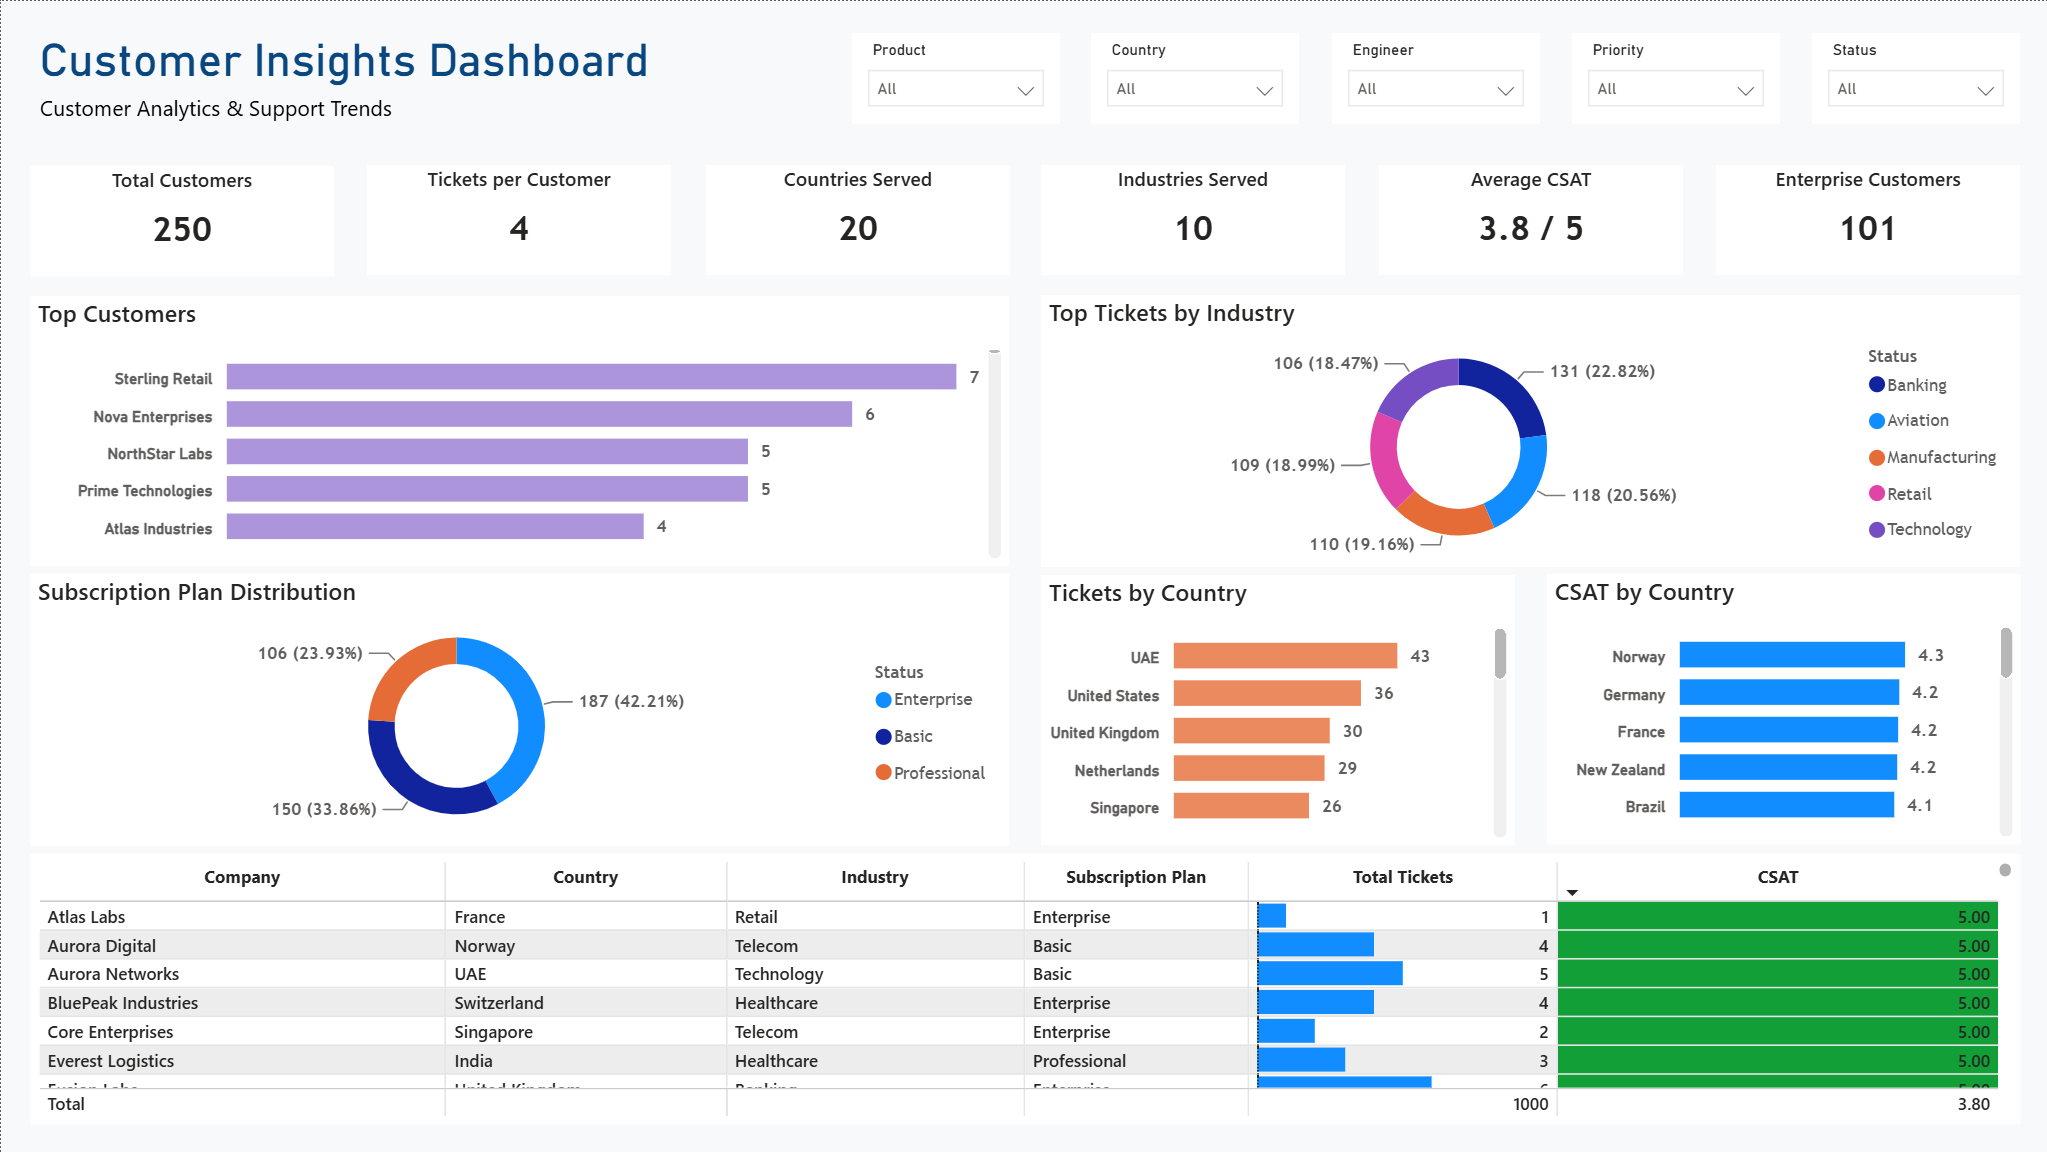

The dashboard page shown, as its layout file describes it:
{"tool":"powerbi","page":{"name":"Customer Insights Dashboard","canvas":[1280,720],"ordinal":2},"visuals":[{"type":"textbox","title":"Customer Insights Dashboard","box":[19.3,20,452.7,61.3],"z":0},{"type":"cardVisual","title":"Total Customers","fields":{"Data":["Measures (2).Total Customers"]},"box":[18,102.8,190,69],"z":1000},{"type":"cardVisual","title":"Tickets per Customer","fields":{"Data":["Measures (2).Tickets per Customer"]},"box":[229,102.5,190.1,69.3],"z":2000},{"type":"cardVisual","title":"Countries Served","fields":{"Data":["Measures (2).Countries Server"]},"box":[440.7,102.5,190.1,69.3],"z":3000},{"type":"cardVisual","title":"Industries Served","fields":{"Data":["Measures (2).Industries Served"]},"box":[650,102.5,190,69.3],"z":4000},{"type":"cardVisual","title":"Average CSAT","fields":{"Data":["Measures (2).Customer Rating Display"]},"box":[861,102.5,190.1,69.3],"z":5000},{"type":"cardVisual","title":"Enterprise Customers","fields":{"Data":["Measures (2).Enterprise Customers"]},"box":[1072,102.5,190.1,69.3],"z":6000},{"type":"slicer","fields":{"Values":["supportdesk_db tickets.status"]},"box":[1132,20,130,57.3],"z":7000},{"type":"slicer","fields":{"Values":["supportdesk_db tickets.priority"]},"box":[982,20,130,57.3],"z":8000},{"type":"slicer","fields":{"Values":["supportdesk_db engineers.engineer_name"]},"box":[832,20,130,57.3],"z":9000},{"type":"slicer","fields":{"Values":["supportdesk_db customers.country"]},"box":[681,20,130,57.3],"z":10000},{"type":"slicer","fields":{"Values":["supportdesk_db products.product_name"]},"box":[532,20,130,57.3],"z":11000},{"type":"clusteredBarChart","title":"Top Customers","fields":{"Category":["supportdesk_db customers.company_name"],"Y":["Measures (2).Total Tickets"]},"box":[18,184.1,612,169],"z":12000},{"type":"pieChart","title":"Top Tickets by Industry","fields":{"Category":["supportdesk_db customers.industry"],"Y":["Measures (2).Total Tickets"]},"box":[650.1,184,612,170],"z":13000},{"type":"tableEx","title":"Ticket Sources","fields":{"Values":["supportdesk_db customers.company_name","supportdesk_db customers.country","supportdesk_db customers.industry","supportdesk_db customers.subscription_plan","Measures (2).Total Tickets","Measures (2).Average Rating"]},"box":[17.9,533,1244.2,169.2],"z":14000},{"type":"barChart","title":"Tickets by Country","fields":{"Category":["supportdesk_db customers.country"],"Y":["Measures (2).Total Tickets"]},"box":[650.1,358.6,296,169.2],"z":15000},{"type":"barChart","title":"CSAT by Country","fields":{"Y":["Measures (2).Average Rating"],"Category":["supportdesk_db customers.country"]},"box":[966.2,358,296,169.2],"z":16000},{"type":"pieChart","title":"Subscription Plan Distribution","fields":{"Y":["Measures (2).Total Tickets"],"Category":["supportdesk_db customers.subscription_plan"]},"box":[18,358,612,170],"z":17000}]}

Visuals, with their boxes in screenshot pixels (x1, y1, x2, y2), scaled from the page's 1280x720 canvas onto the 2047x1152 screenshot:
"Customer Insights Dashboard" textbox: select_region(31, 32, 755, 130)
"Total Customers" cardVisual: select_region(29, 164, 333, 275)
"Tickets per Customer" cardVisual: select_region(366, 164, 670, 275)
"Countries Served" cardVisual: select_region(705, 164, 1009, 275)
"Industries Served" cardVisual: select_region(1039, 164, 1343, 275)
"Average CSAT" cardVisual: select_region(1377, 164, 1681, 275)
"Enterprise Customers" cardVisual: select_region(1714, 164, 2018, 275)
slicer - supportdesk_db tickets.status: select_region(1810, 32, 2018, 124)
slicer - supportdesk_db tickets.priority: select_region(1570, 32, 1778, 124)
slicer - supportdesk_db engineers.engineer_name: select_region(1331, 32, 1538, 124)
slicer - supportdesk_db customers.country: select_region(1089, 32, 1297, 124)
slicer - supportdesk_db products.product_name: select_region(851, 32, 1059, 124)
"Top Customers" clusteredBarChart: select_region(29, 295, 1008, 565)
"Top Tickets by Industry" pieChart: select_region(1040, 294, 2018, 566)
"Ticket Sources" tableEx: select_region(29, 853, 2018, 1124)
"Tickets by Country" barChart: select_region(1040, 574, 1513, 844)
"CSAT by Country" barChart: select_region(1545, 573, 2019, 844)
"Subscription Plan Distribution" pieChart: select_region(29, 573, 1008, 845)
